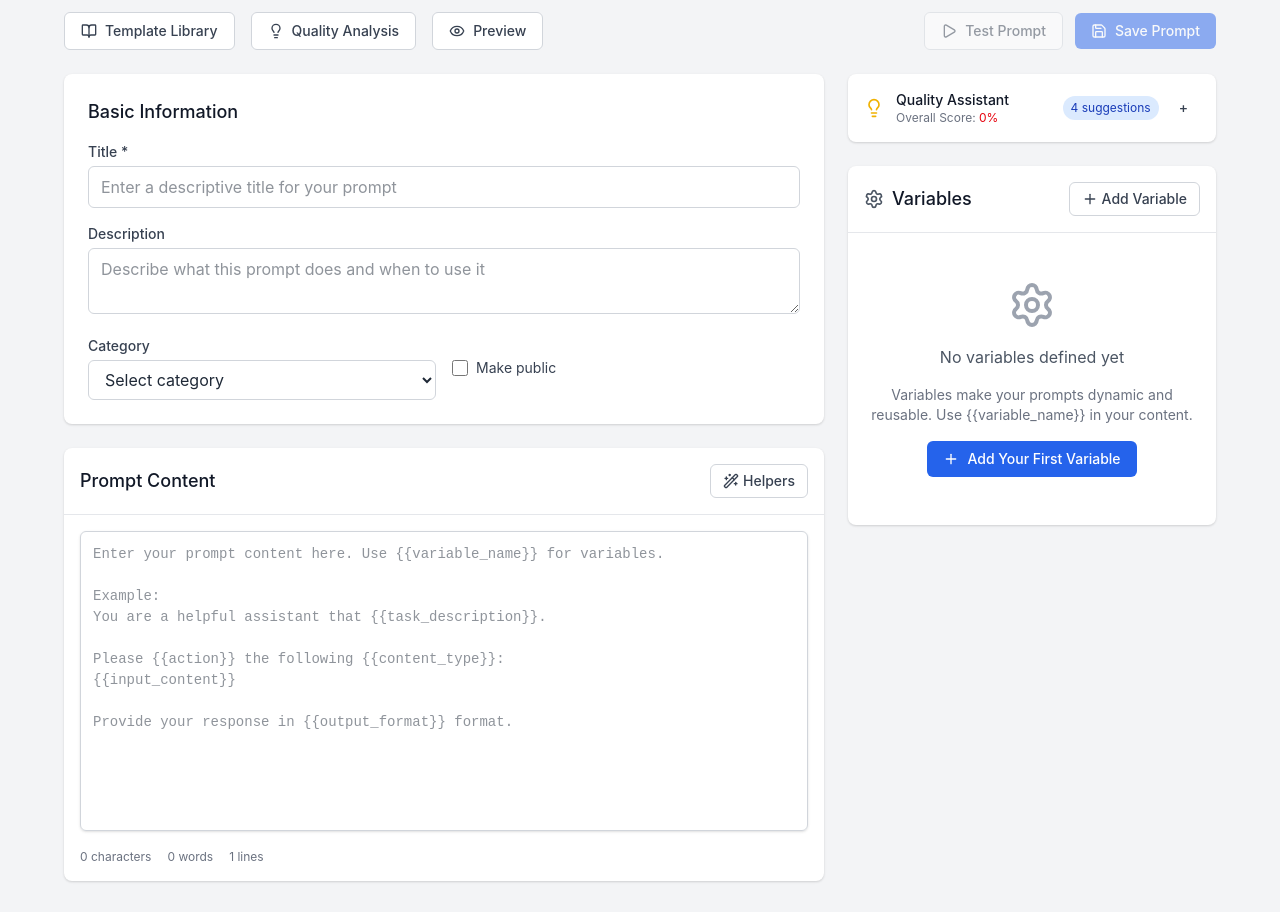
Test: EnhancedPromptEditor › enables save button when required fields are filled
The image size is (1280, 912).
Type "Test Title" into the field with placeholder "Enter a descriptive title for your prompt" at x=444, y=187, box [88, 166, 800, 208]
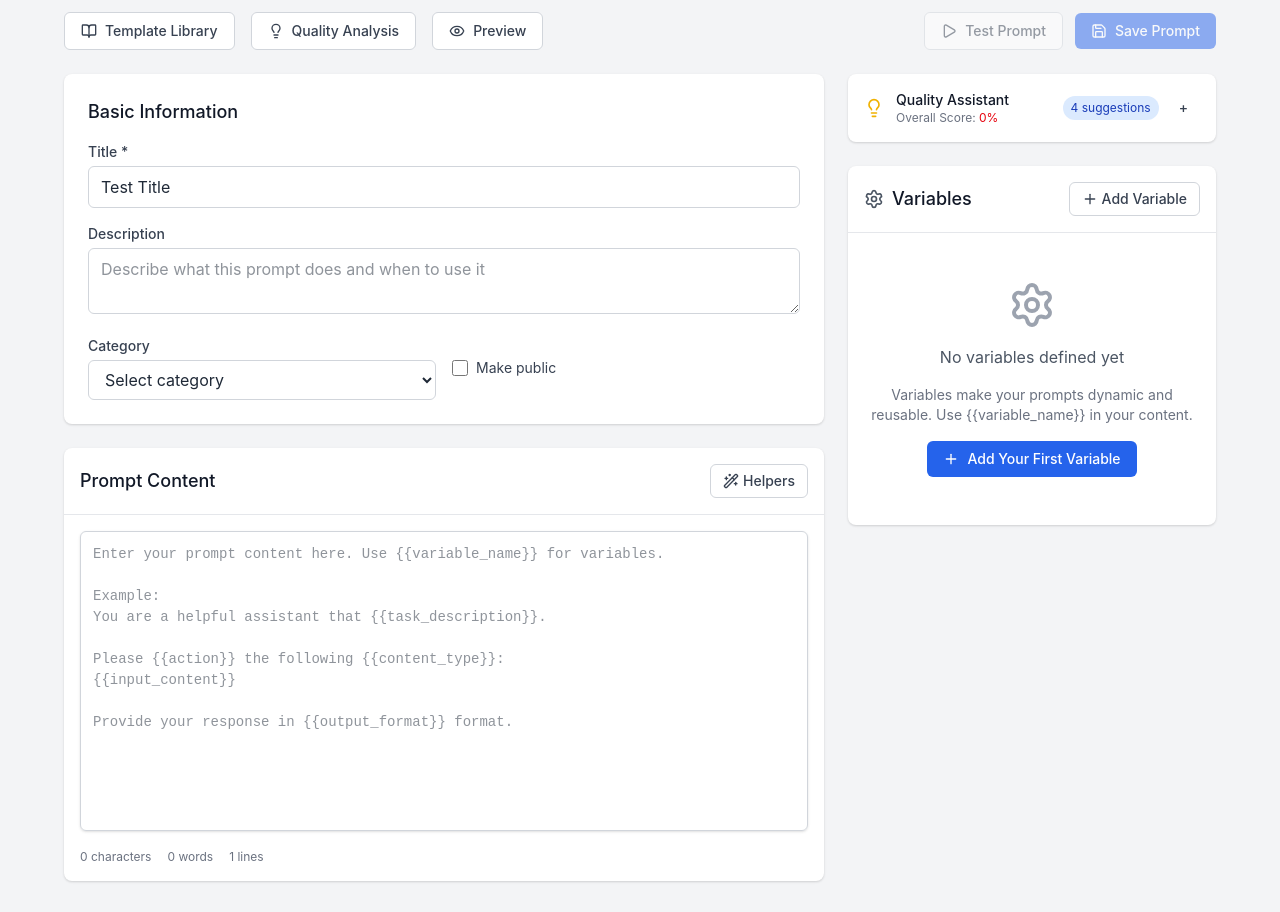
Replace the text in the text box with placeholder "Enter your prompt content here" with "Test content" at x=444, y=681, box [80, 531, 808, 831]
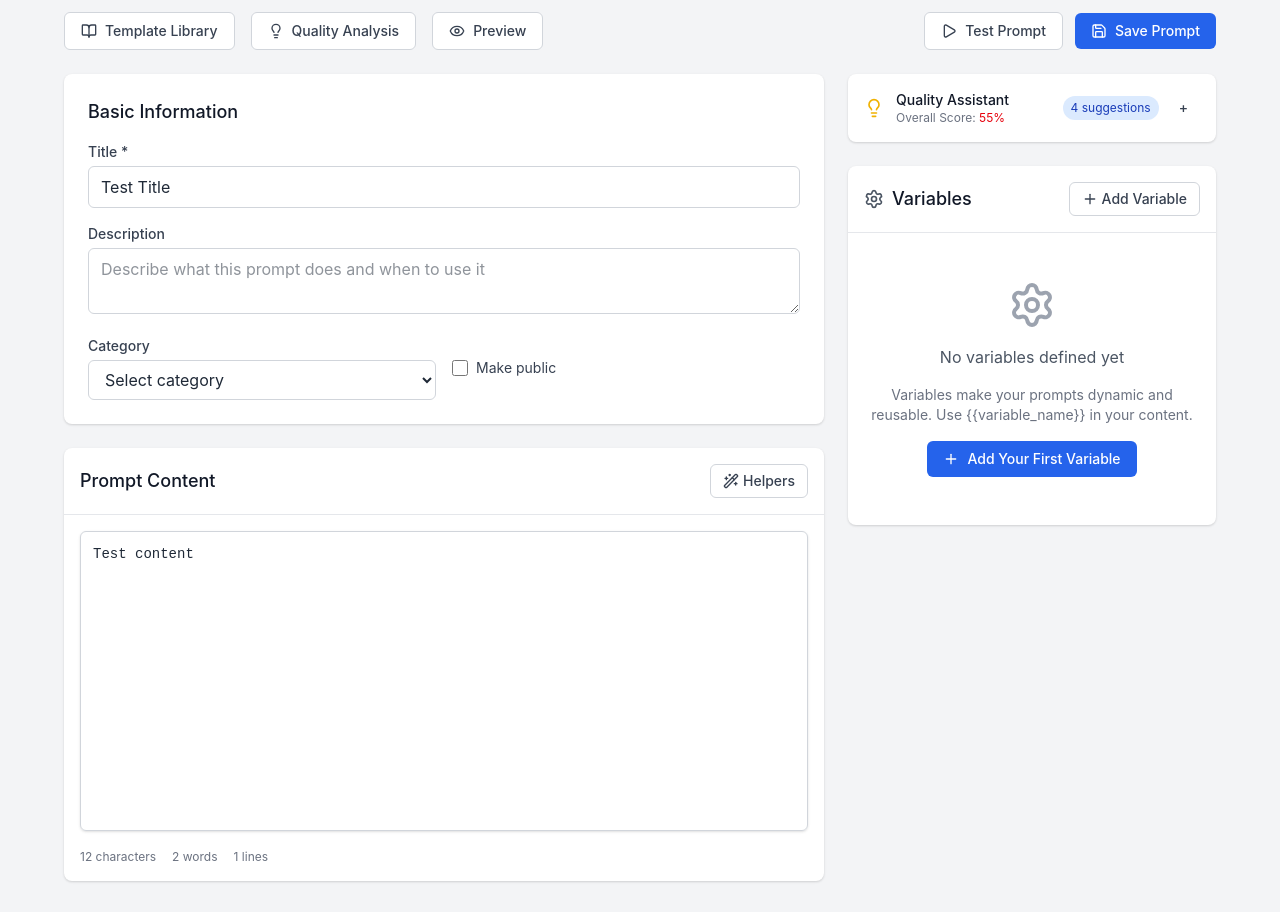
Expected: the button "Save Prompt" is enabled, [1075, 13, 1216, 49]
